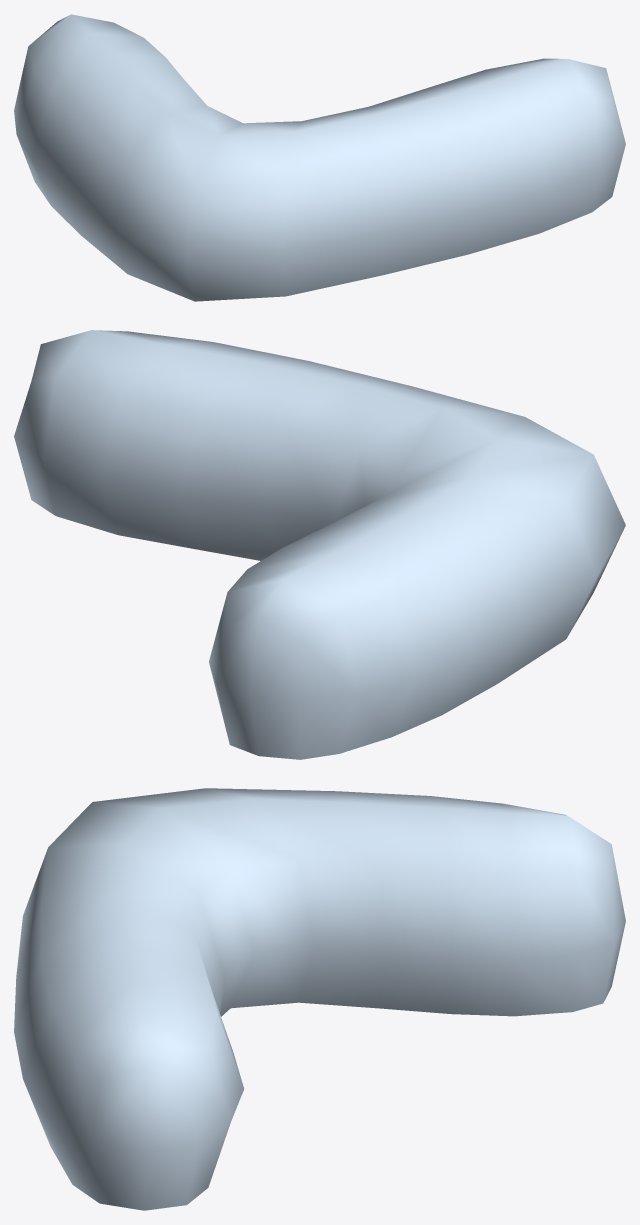
File: snow5.fbx
3 renders of one model, top to bottom at view 1: azimuth 30°, elevation 25°; view 2: azimuth 150°, elevation 25°; view 3: azimuth 270°, elevation 25°, orthographic. The views are drawn at different scales.
Parts seen in each view (by area): view 1: snow5; view 2: snow5; view 3: snow5.
Boxes of the visible parts, left/top/right/bottom form: snow5: left=14, top=14, right=625, bottom=301; snow5: left=14, top=330, right=625, bottom=759; snow5: left=14, top=788, right=625, bottom=1210.
Size of the model in its own units: 47.07 by 12.29 by 40.57.
